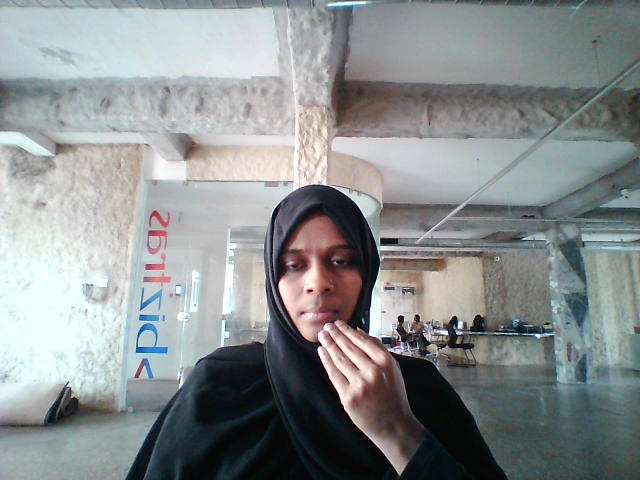THANKS: (306, 319, 455, 469)
